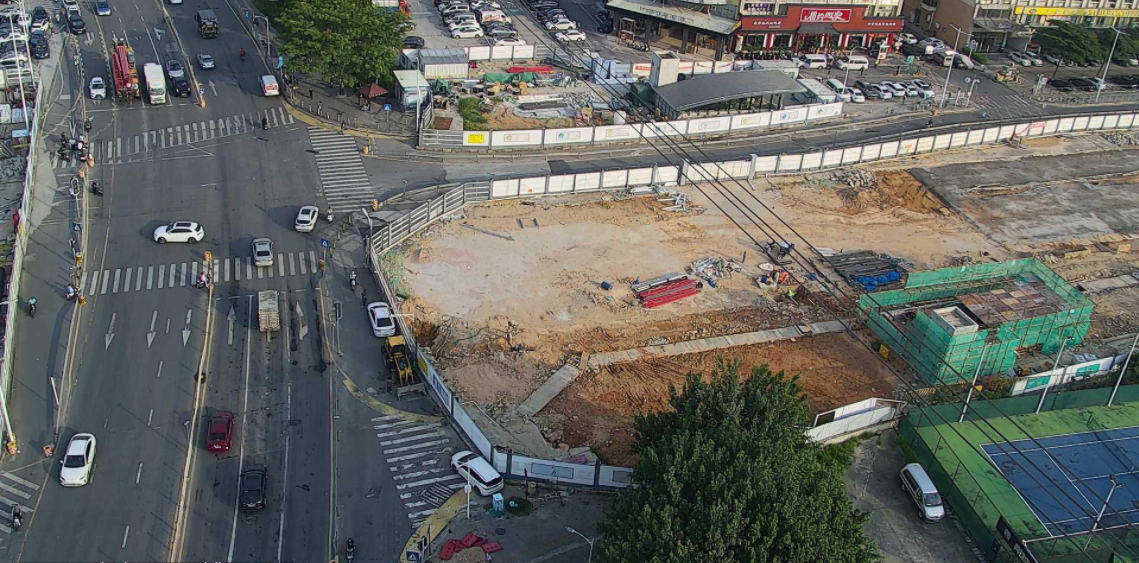绿膜: (482, 70, 543, 87), (429, 78, 454, 95)
